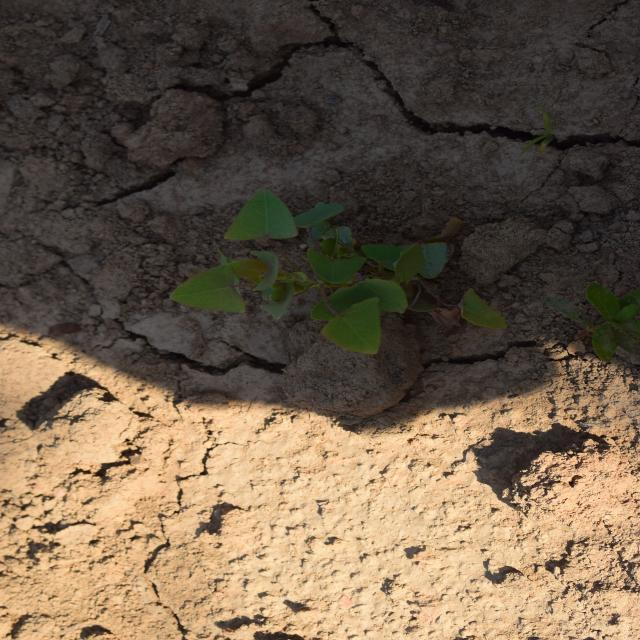Asiatic_Smartweed: (291, 177, 440, 465)
